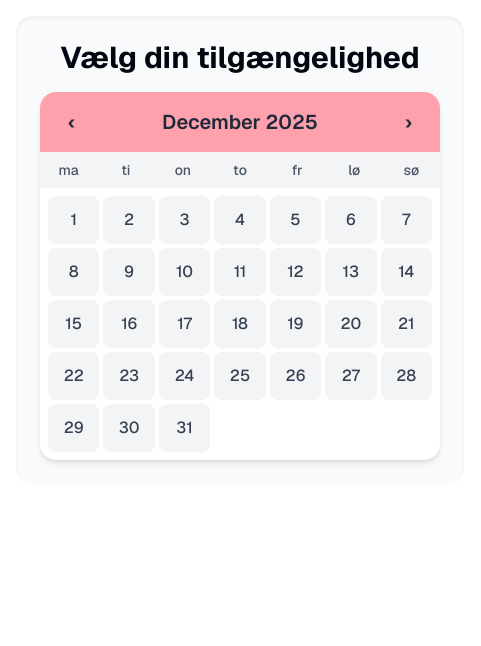
Test case: AvailabilityPage › clicking a day toggles it and shows 'Gem ændringer'
expect the heading "Vælg din tilgængelighed" is shown: met, box [40,40,440,76]
Press the mouse on the button "1" at [74, 220], box [48,196,99,244]
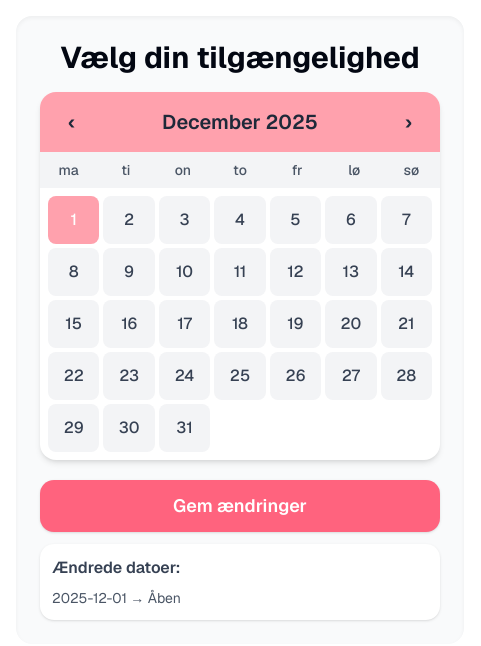
expect the button "Gem ændringer" is shown: met, box [40,480,440,532]
